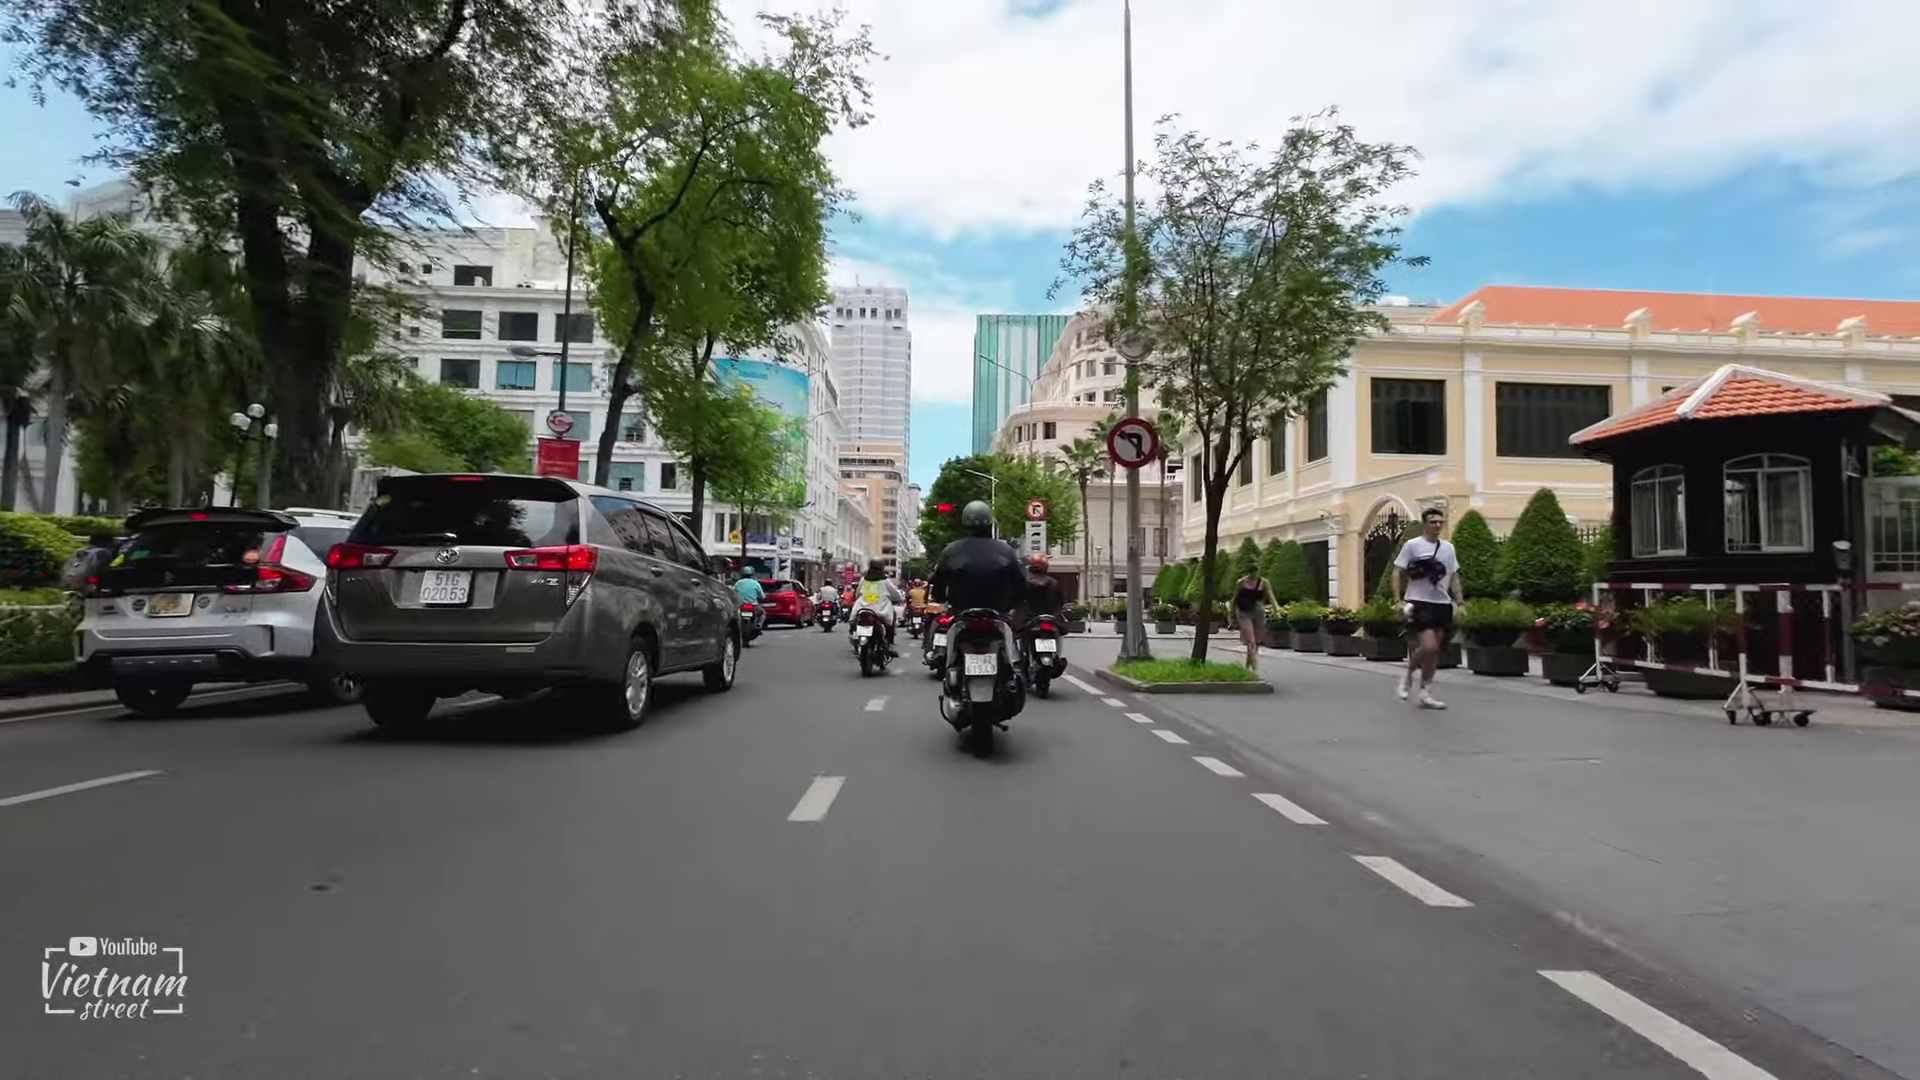cam_re_phai: (1022, 496, 1048, 522)
cam_re_trai: (1105, 415, 1160, 471)
